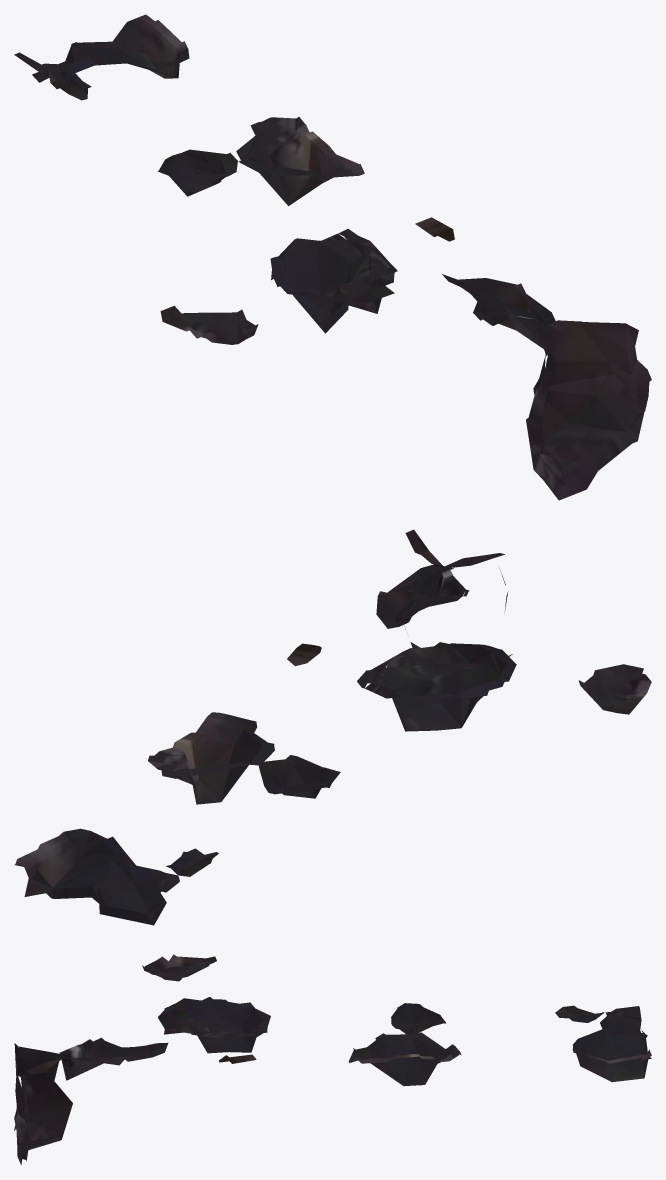
The picture shows the model from 3 angles, top to bottom: view 1: azimuth 30°, elevation 25°; view 2: azimuth 150°, elevation 25°; view 3: azimuth 270°, elevation 25°; orthographic projection. The views are drawn at different scales.
Parts seen in each view (by area): view 1: Mesh_0; view 2: Mesh_0; view 3: Mesh_0.
Boxes of the visible parts, left/top/right/bottom form: Mesh_0: left=14, top=14, right=651, bottom=500; Mesh_0: left=14, top=529, right=651, bottom=925; Mesh_0: left=14, top=954, right=651, bottom=1164.
Bounding box in the file's own units: 18.26 × 7.51 × 38.81.
Materials: 1 (1 with a texture image).
